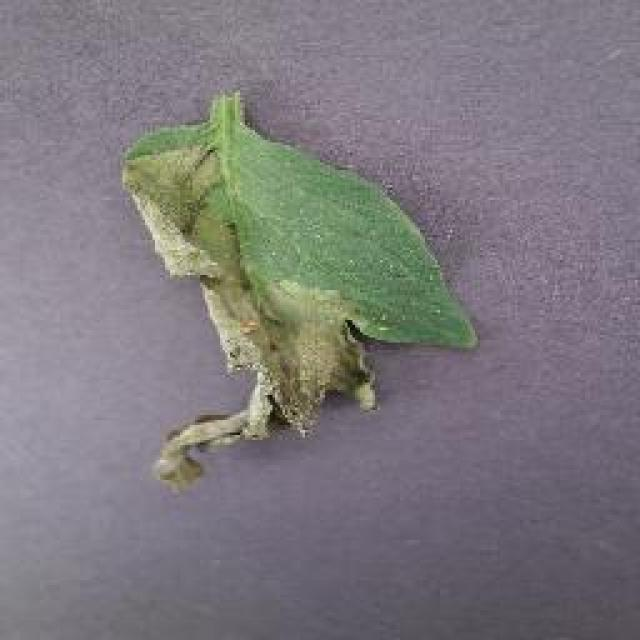Tomato Late Blight: (118, 133, 367, 500)
